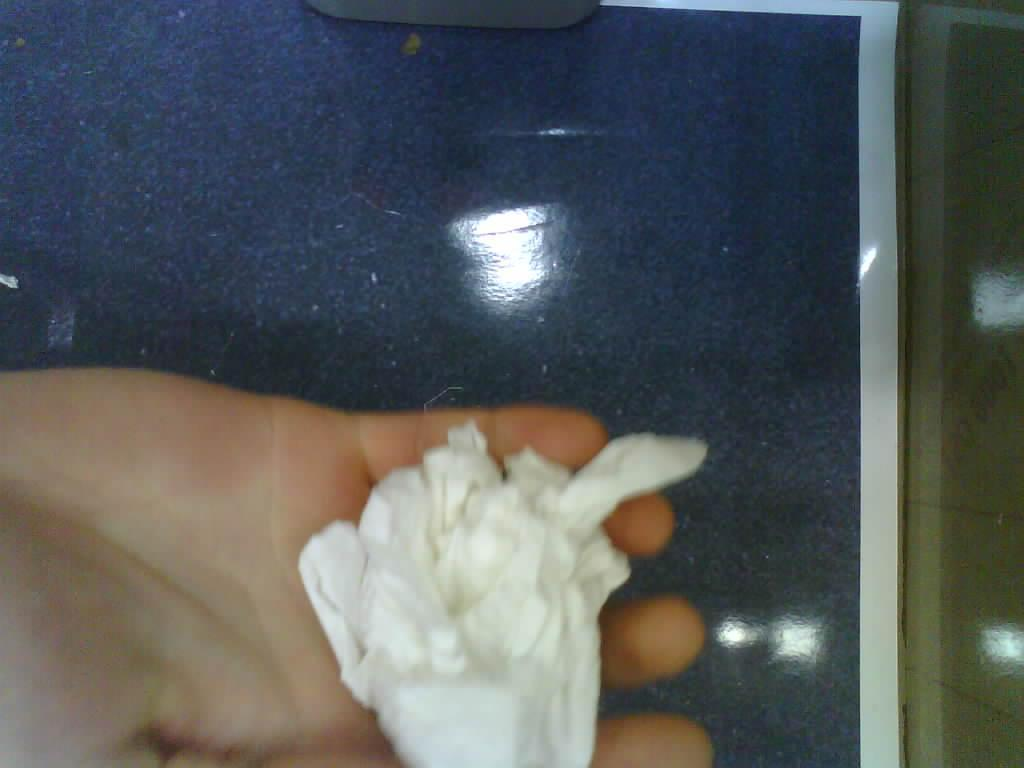paper: (300, 422, 706, 766)
